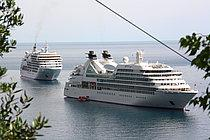Ship: (64, 47, 203, 116), (20, 38, 66, 85)
